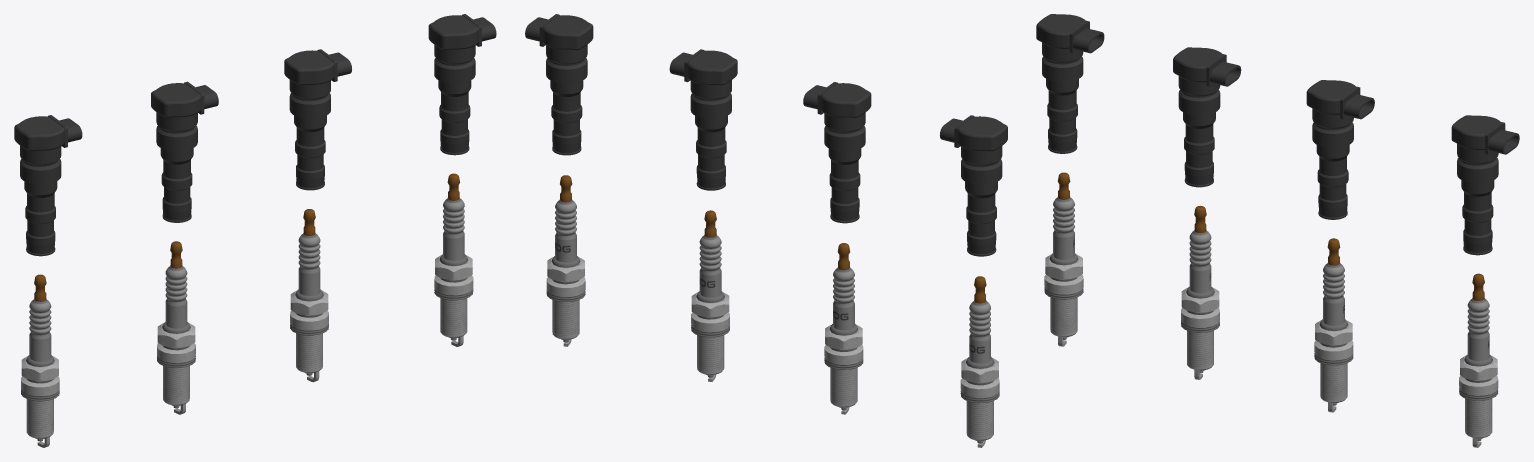
Rendered from sparkCoil.glb.
The picture shows the model from 3 angles, left to right: view 1: azimuth 30°, elevation 25°; view 2: azimuth 150°, elevation 25°; view 3: azimuth 330°, elevation 25°; orthographic projection.
Visible parts, largest first — view 1: cewka_1(0), cewka_1(3), cewka_1(1), cewka_1(2), swieca_1(3), swieca_1(0), swieca_1(2), swieca_1(1); view 2: cewka_1(3), cewka_1(0), cewka_1(2), cewka_1(1), swieca_1(0), swieca_1(1), swieca_1(2), swieca_1(3); view 3: cewka_1(0), cewka_1(2), cewka_1(3), cewka_1(1), swieca_1(1), swieca_1(2), swieca_1(3), swieca_1(0).
Part boxes in pixels (x1,y1,x2,y2): cewka_1(0): [428, 14, 496, 155]; cewka_1(3): [151, 81, 218, 222]; cewka_1(1): [14, 115, 82, 256]; cewka_1(2): [284, 49, 351, 190]; swieca_1(3): [21, 274, 59, 447]; swieca_1(0): [290, 209, 328, 382]; swieca_1(2): [157, 241, 195, 414]; swieca_1(1): [434, 173, 473, 346]; cewka_1(3): [803, 82, 871, 223]; cewka_1(0): [525, 14, 593, 155]; cewka_1(2): [669, 49, 737, 190]; cewka_1(1): [940, 115, 1007, 256]; swieca_1(0): [691, 210, 729, 381]; swieca_1(1): [546, 175, 585, 346]; swieca_1(2): [824, 243, 863, 414]; swieca_1(3): [960, 276, 999, 447]; cewka_1(0): [1451, 115, 1519, 255]; cewka_1(2): [1306, 80, 1374, 219]; cewka_1(3): [1173, 47, 1241, 187]; cewka_1(1): [1036, 14, 1104, 153]; swieca_1(1): [1459, 273, 1498, 447]; swieca_1(2): [1181, 205, 1219, 379]; swieca_1(3): [1044, 172, 1083, 346]; swieca_1(0): [1314, 238, 1353, 412].
Bounding box in the file's own units: 0.00731 × 0.00479 × 0.000641.
Materials: 2 (1 with a texture image).
